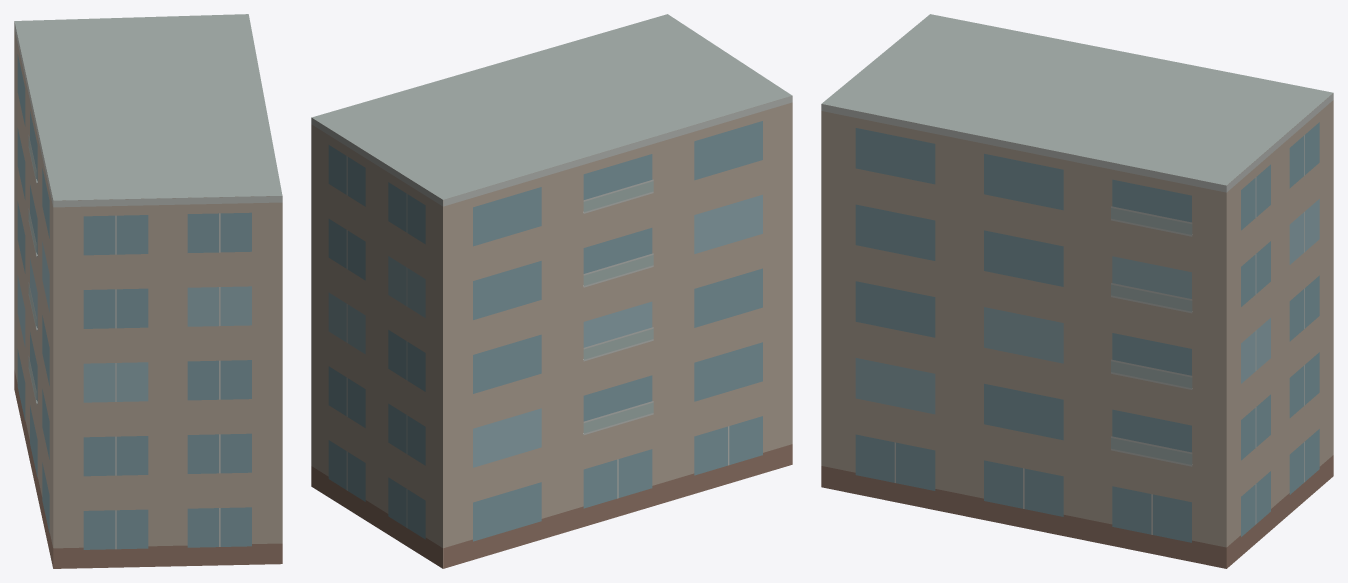
File: survey-upis-32889603.glb
3 renders of one model, left to right at view 1: azimuth 30°, elevation 25°; view 2: azimuth 150°, elevation 25°; view 3: azimuth 270°, elevation 25°, orthographic. The views are drawn at different scales.
Parts seen in each view (by area): view 1: survey-upis-32889603.tmp; view 2: survey-upis-32889603.tmp; view 3: survey-upis-32889603.tmp.
Boxes of the visible parts, x1=… form: survey-upis-32889603.tmp: x1=14, y1=14, x2=282, y2=568; survey-upis-32889603.tmp: x1=311, y1=14, x2=792, y2=568; survey-upis-32889603.tmp: x1=821, y1=14, x2=1333, y2=568.
Bounding box in the file's own units: 12.78 × 13.3 × 16.12.
